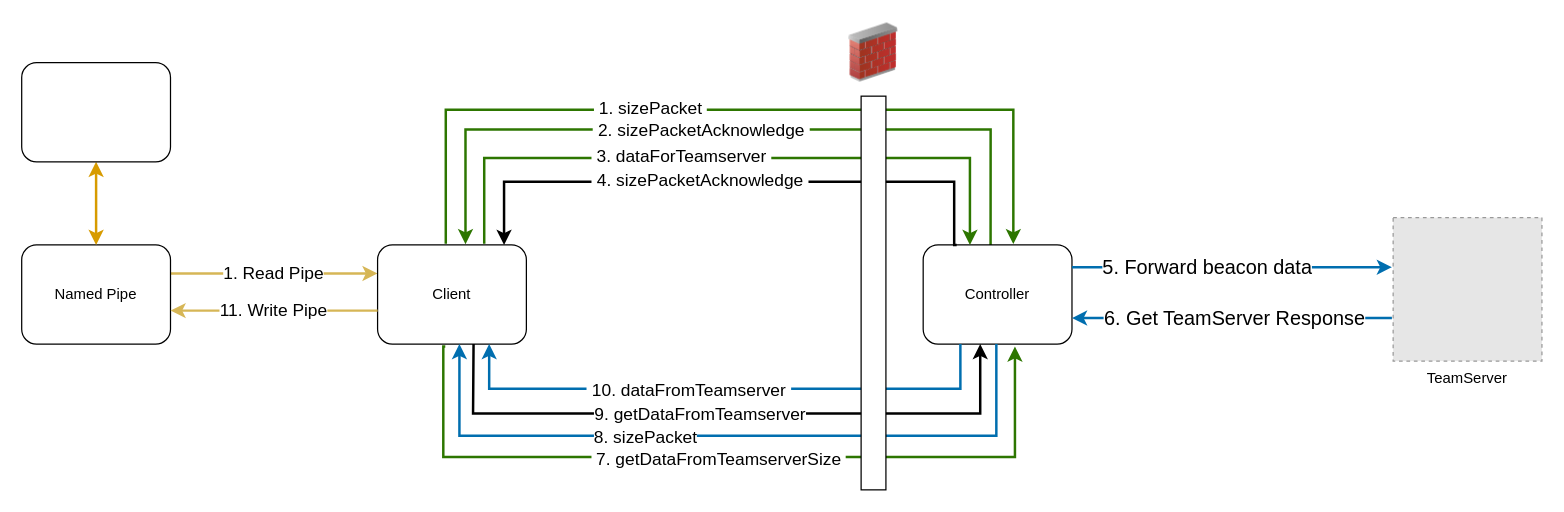
This 1564x512 diagram has some shape labels left out. Grey dashed boxes stand in for pictures. The centre of each missing label's shape, as x and y in pixels:
"Beacon" goes at (x=95, y=111).
"Edge Firewall" goes at (x=873, y=292).
